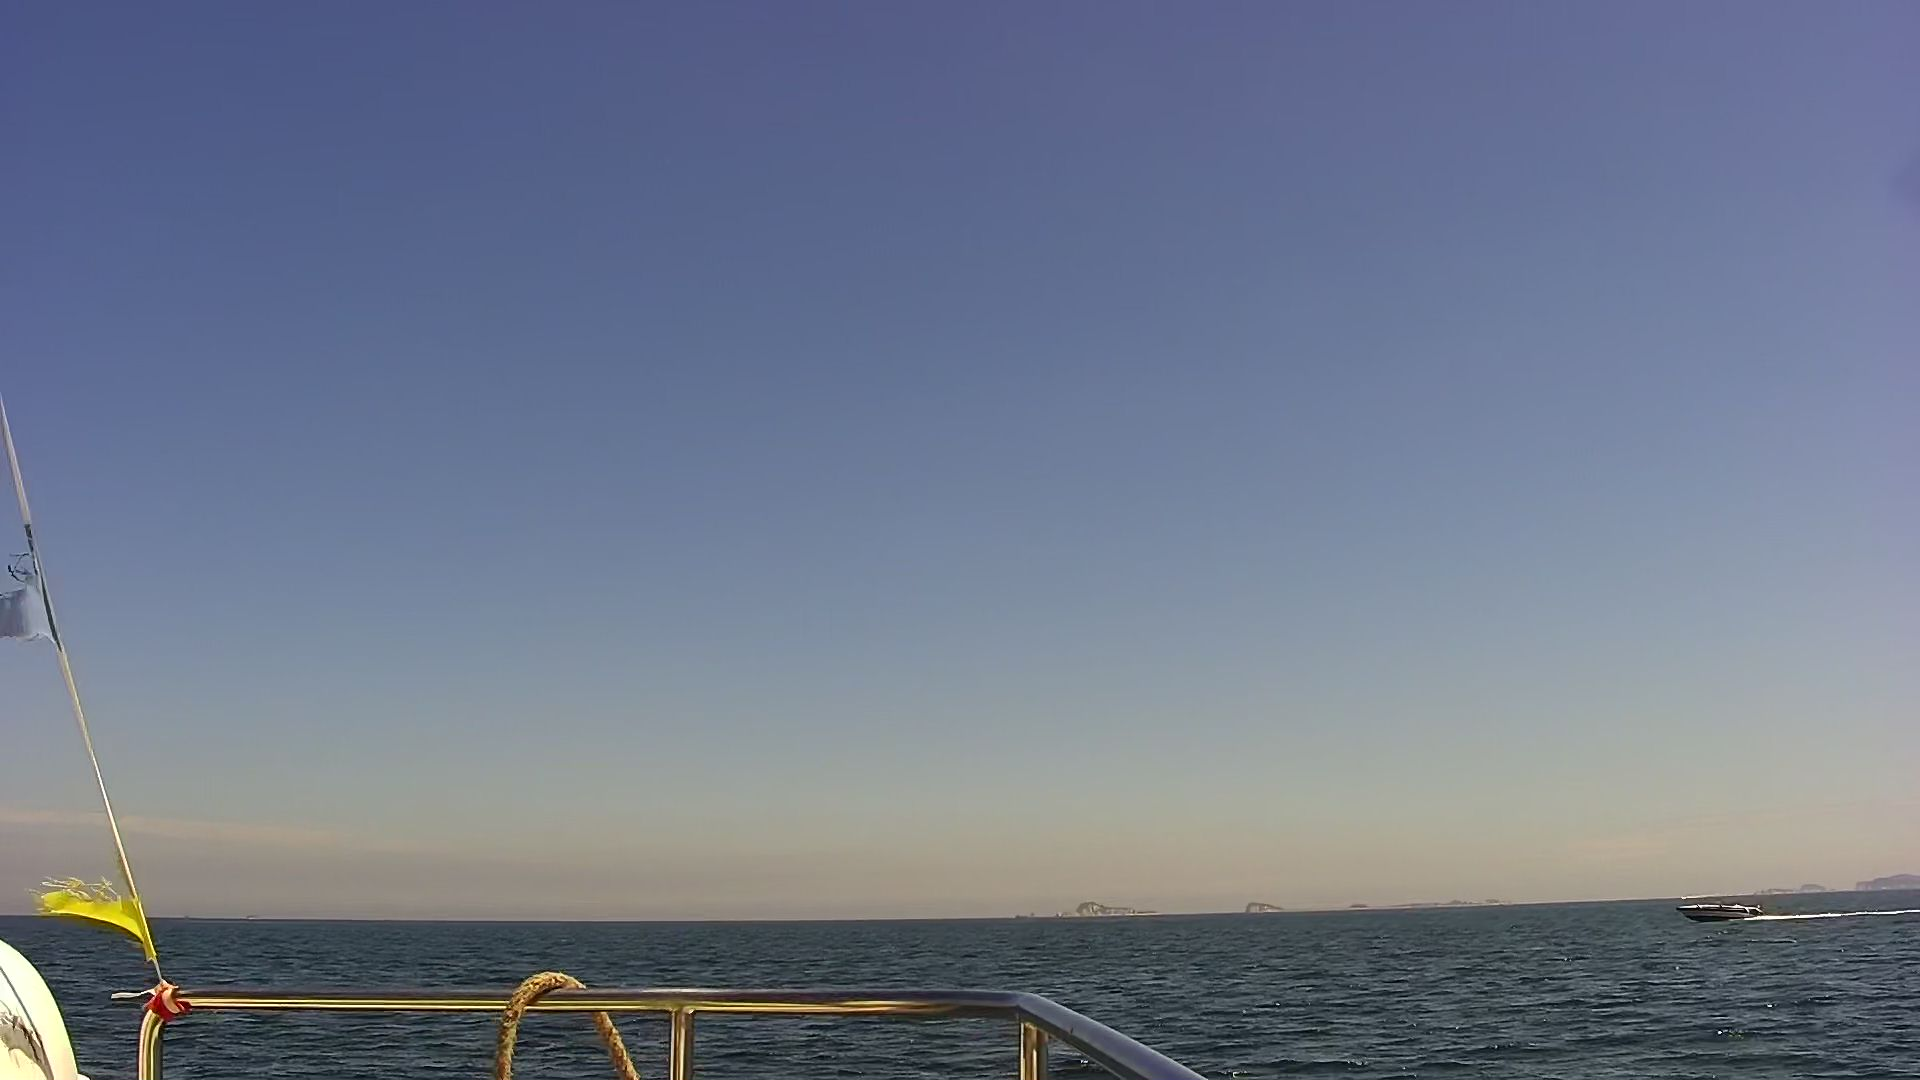boat: (1677, 894, 1767, 927)
